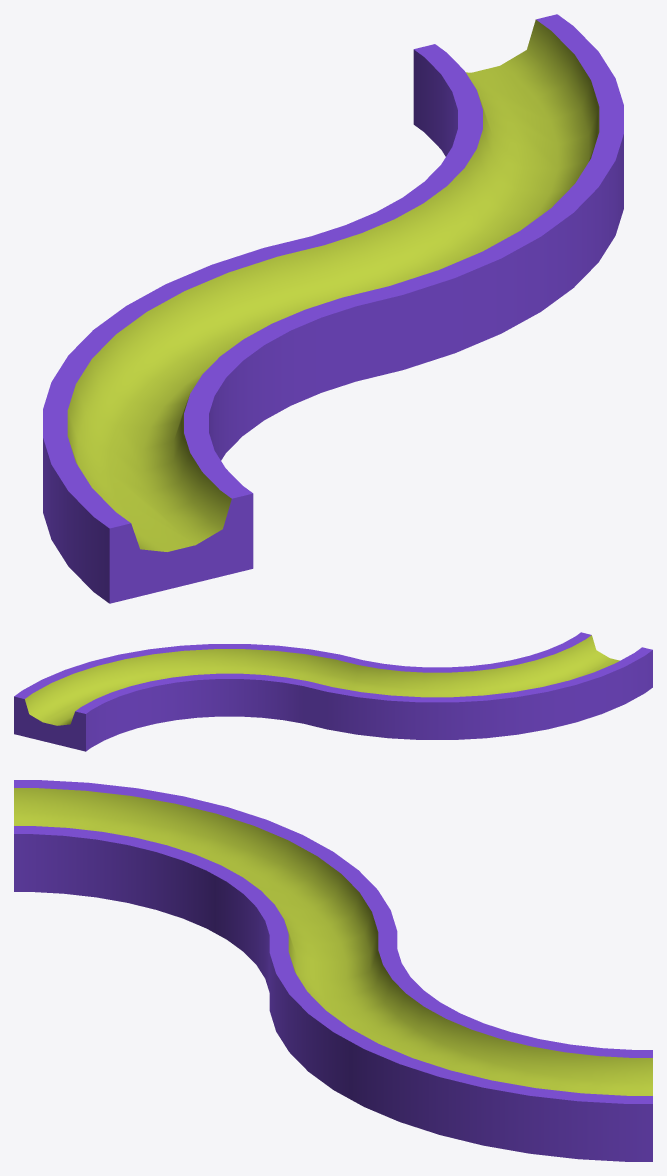
Rendered from s-curve_right_large-col.dae.
The picture shows the model from 3 angles, top to bottom: view 1: azimuth 30°, elevation 25°; view 2: azimuth 150°, elevation 25°; view 3: azimuth 270°, elevation 25°; orthographic projection. The views are drawn at different scales.
Parts seen in each view (by area): view 1: s-curve_right_large-col; view 2: s-curve_right_large-col; view 3: s-curve_right_large-col.
Part boxes in pixels (bbox=[...]): s-curve_right_large-col: bbox=[43, 14, 623, 603]; s-curve_right_large-col: bbox=[14, 632, 652, 751]; s-curve_right_large-col: bbox=[14, 780, 652, 1161].
Bounding box in the file's own units: 6 × 5 × 0.5.
